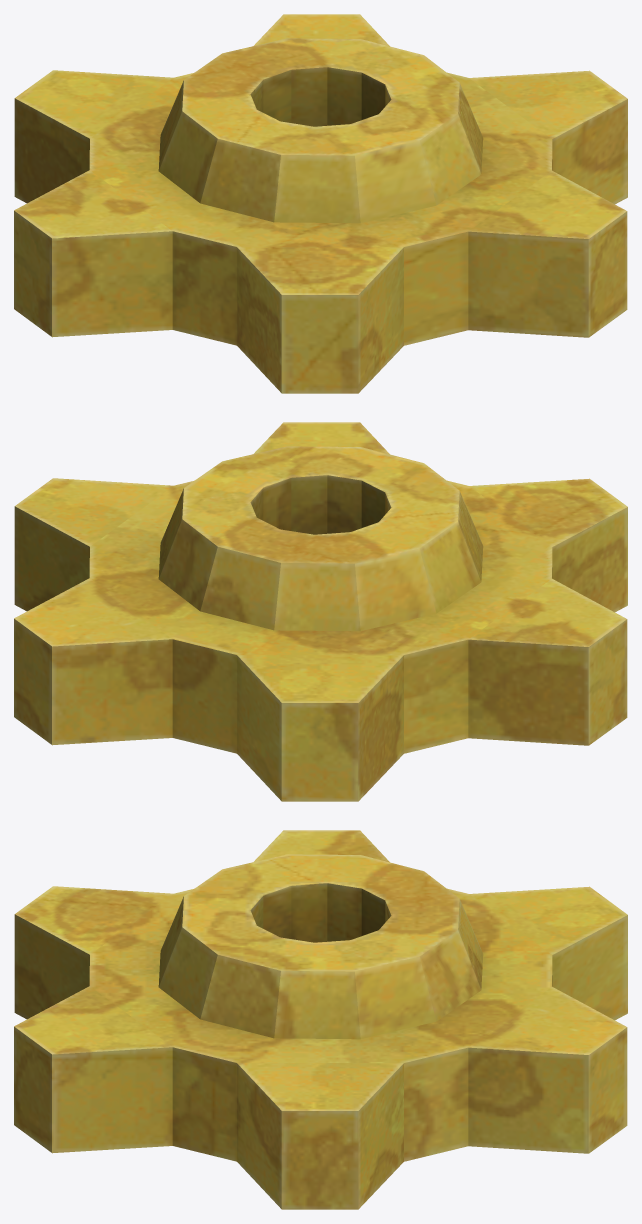
Rendered from GoldGear.glb.
The picture shows the model from 3 angles, top to bottom: view 1: azimuth 30°, elevation 25°; view 2: azimuth 150°, elevation 25°; view 3: azimuth 270°, elevation 25°; orthographic projection.
Visible parts, largest first — view 1: GoldGear; view 2: GoldGear; view 3: GoldGear.
Boxes of the visible parts, box(x1,y1,x2,y2) form: GoldGear: box(14, 14, 627, 393); GoldGear: box(14, 422, 627, 801); GoldGear: box(14, 830, 627, 1209).
Bounding box in the file's own units: 0.4552 × 0.1182 × 0.4208.
Materials: 1 (1 with a texture image).
